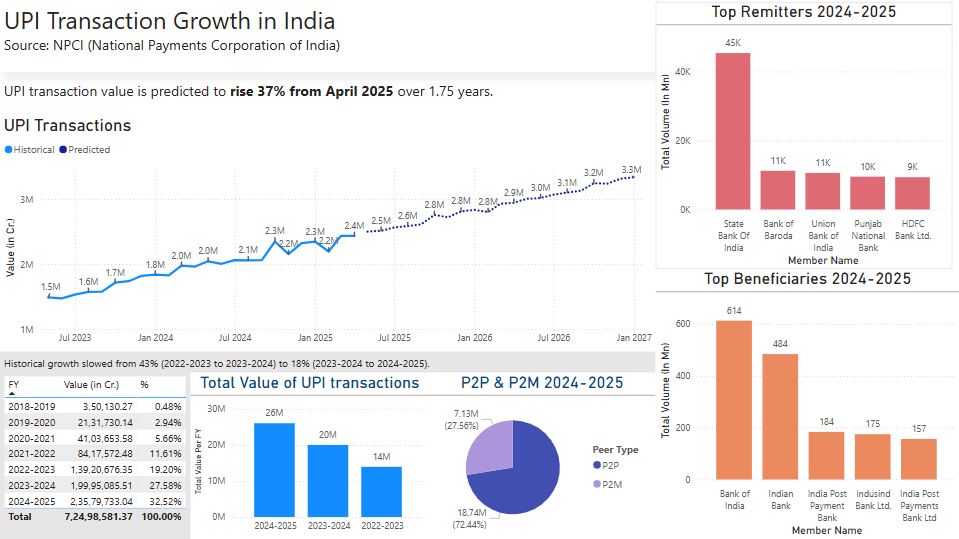

What the dashboard file says about the page in this screenshot:
{"tool":"powerbi","page":{"name":"UPI Trends and Forecasts","canvas":[1280,720],"ordinal":0},"visuals":[{"type":"lineChart","title":"UPI Transactions","fields":{"Category":["Monthly metrics.ds"],"Y":["DF Monthly metrics.Value (in Cr.)"],"Series":["DF Monthly metrics.DataType"]},"box":[0,154,874,316],"z":0},{"type":"clusteredColumnChart","title":"Total Value of UPI transactions","fields":{"Category":["DF Monthly metrics.Financial Year"],"Y":["Assist Monthly Table.TotalValuePerFY"]},"box":[254,498,318,222],"z":1000},{"type":"pieChart","title":"P2P & P2M 2024-2025 ","fields":{"Category":["Ref Peer Type.Peer Type"],"Y":["Assist Peer Table.LatestFYTotalValue"]},"box":[572,498,302,222],"z":2000},{"type":"textbox","box":[0,0,874,98],"z":3000},{"type":"textbox","box":[0,104,874,50],"z":4000},{"type":"textbox","box":[0,470,874,28],"z":5000},{"type":"card","title":"Total UPI value (2024-2025)","fields":{"Values":["DF Monthly metrics.Value (in Cr.)"]},"box":[1052,0,218,172],"z":6000},{"type":"clusteredColumnChart","title":"Top Remitters 2024-2025","fields":{"Category":["DF Top Performers.Member Name"],"Y":["DF Top Performers.Total Volume (In Mn)"]},"box":[874,4,396,356],"z":7000},{"type":"clusteredColumnChart","title":"Top Beneficiaries 2024-2025","fields":{"Category":["DF Top Performers.Member Name"],"Y":["DF Top Performers.Total Volume (In Mn)"]},"box":[874,360,406,360],"z":8000},{"type":"tableEx","fields":{"Values":["DF Monthly metrics.Financial Year","DF Monthly metrics.Value (in Cr.)","Divide(Sum(DF Monthly metrics.Value (in Cr.)), ScopedEval(Sum(DF Monthly metrics.Value (in Cr.)), []))"]},"box":[0,498,254,222],"z":9000}]}

Visuals, with their boxes in screenshot pixels (x1, y1, x2, y2), scaled from the page's 1280x720 canvas onto the 959x539 screenshot:
"UPI Transactions" lineChart: {"left": 0, "top": 115, "right": 655, "bottom": 352}
"Total Value of UPI transactions" clusteredColumnChart: {"left": 190, "top": 373, "right": 429, "bottom": 538}
"P2P & P2M 2024-2025 " pieChart: {"left": 429, "top": 373, "right": 655, "bottom": 538}
textbox: {"left": 0, "top": 0, "right": 655, "bottom": 73}
textbox: {"left": 0, "top": 78, "right": 655, "bottom": 115}
textbox: {"left": 0, "top": 352, "right": 655, "bottom": 373}
"Total UPI value (2024-2025)" card: {"left": 788, "top": 0, "right": 952, "bottom": 129}
"Top Remitters 2024-2025" clusteredColumnChart: {"left": 655, "top": 3, "right": 952, "bottom": 270}
"Top Beneficiaries 2024-2025" clusteredColumnChart: {"left": 655, "top": 270, "right": 958, "bottom": 538}
tableEx - DF Monthly metrics.Financial Year x DF Monthly metrics.Value (in Cr.): {"left": 0, "top": 373, "right": 190, "bottom": 538}
